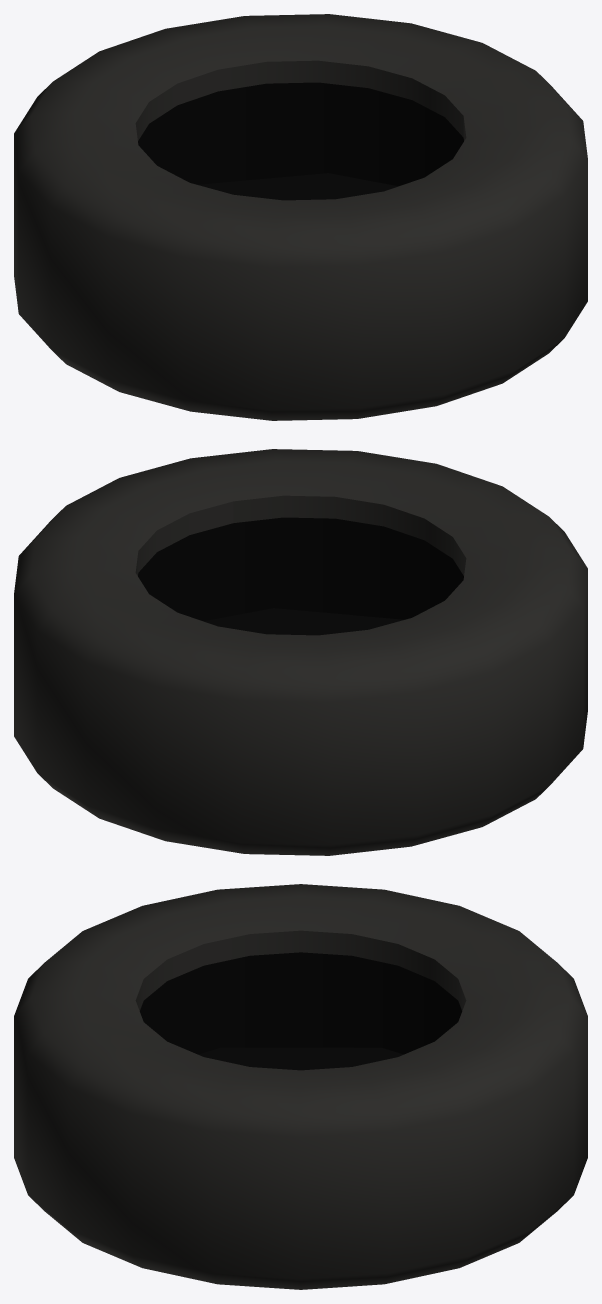
File: prop_tyre_1x1_A.FBX
3 views of the same model, one above another, from view 1: azimuth 30°, elevation 25°; view 2: azimuth 150°, elevation 25°; view 3: azimuth 270°, elevation 25° (orthographic).
Parts seen in each view (by area): view 1: prop_tyre_2; view 2: prop_tyre_2; view 3: prop_tyre_2.
Boxes of the visible parts, x1,y1,x2,y2 form: prop_tyre_2: (14, 14, 587, 420); prop_tyre_2: (14, 449, 587, 855); prop_tyre_2: (14, 884, 587, 1289).
Bounding box in the file's own units: 33.16 × 12.12 × 33.16.
